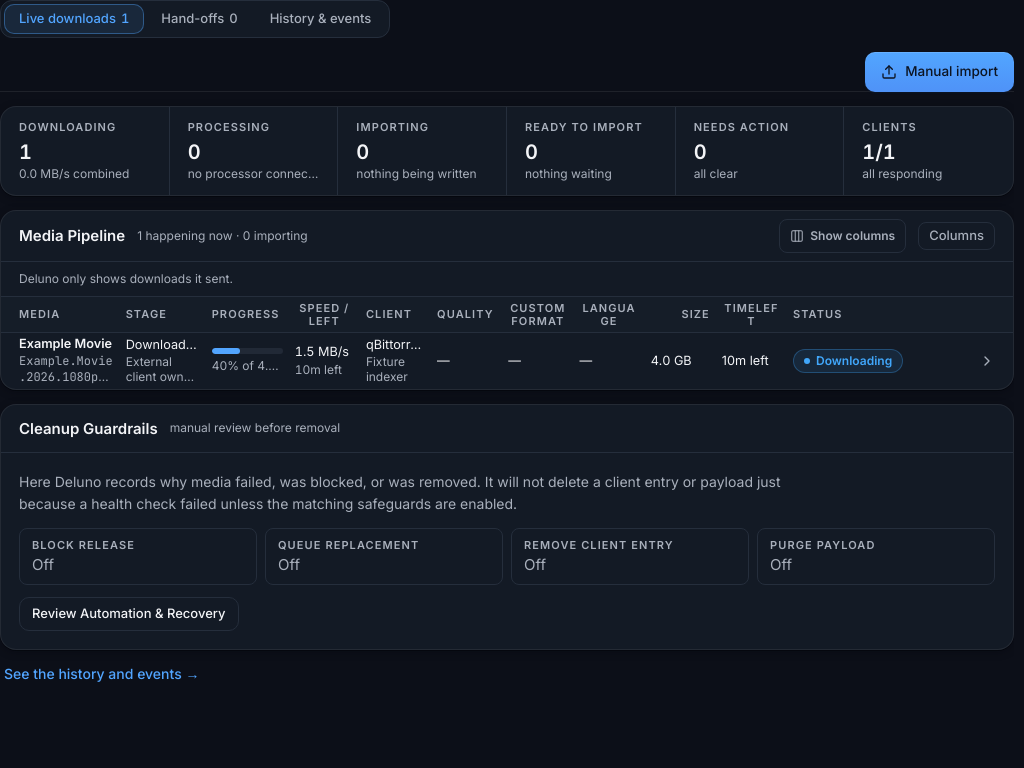
Scenario: download drawer: header › every way of closing the drawer (button 0 of the Close pair) closes it
Click the text "Example.Movie.2026.1080p.WEB-DL-GROUP". click: coordinates (507, 360)
box: [1,332,1013,388]
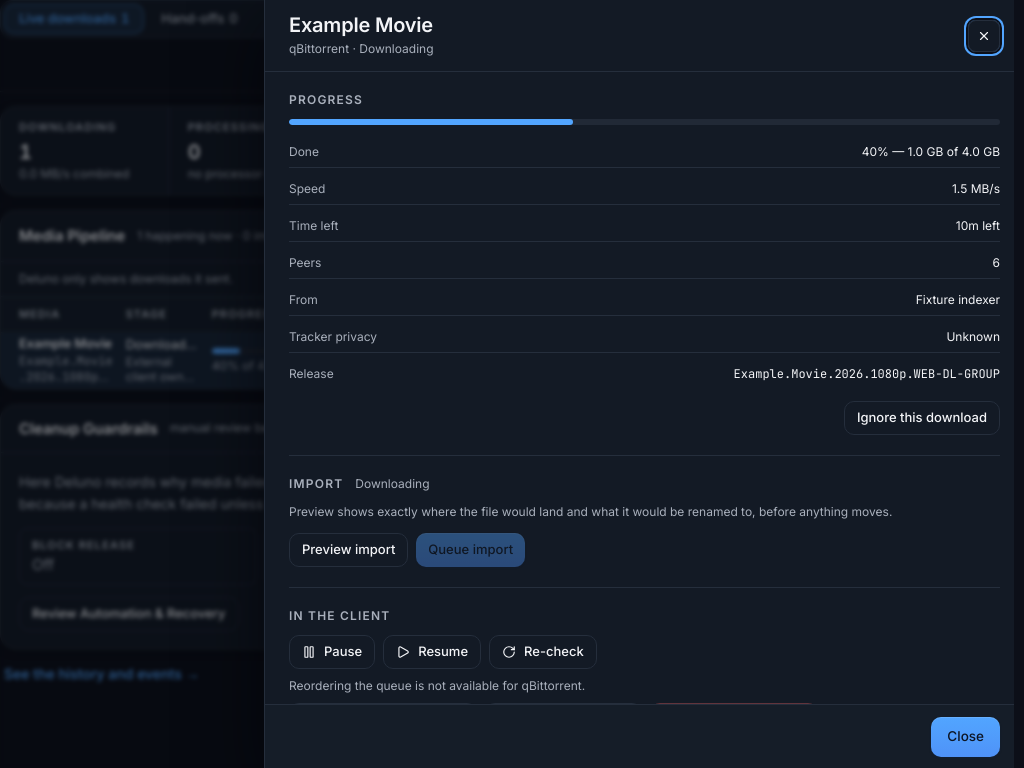
expect the number of buttons named "Close" is 2: met
Click the button named "Close". click: coordinates (984, 36)
box: [968,20,1000,52]
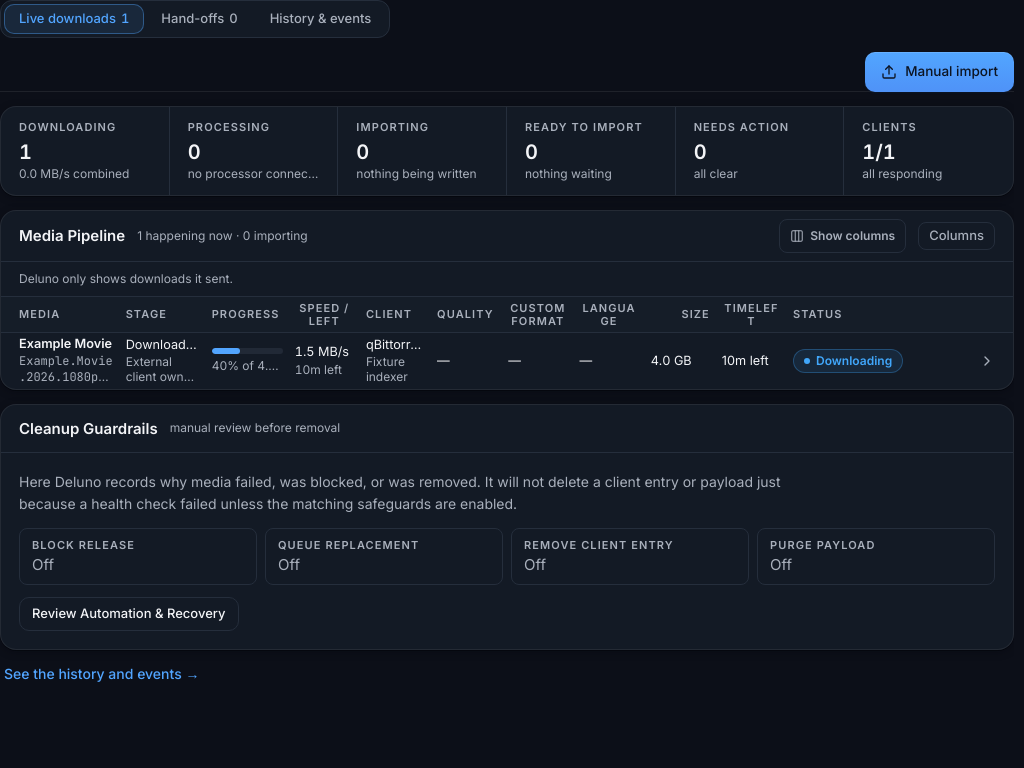
expect the dialog is gone: met
